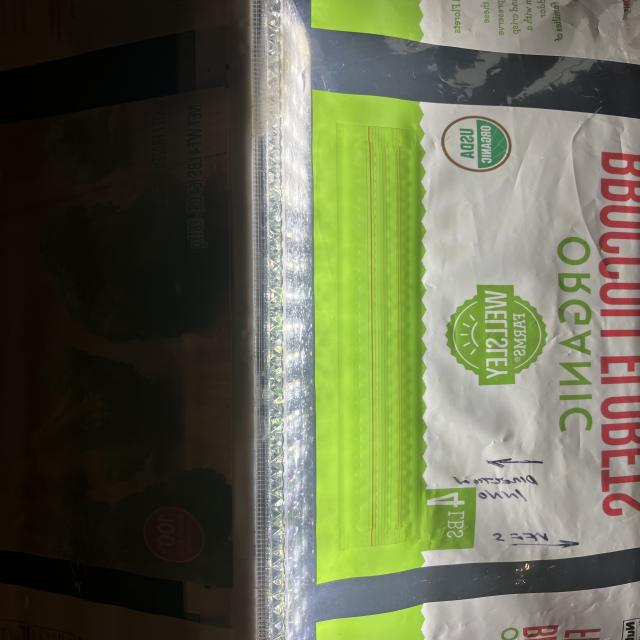zip_l: (335, 123, 425, 552)
